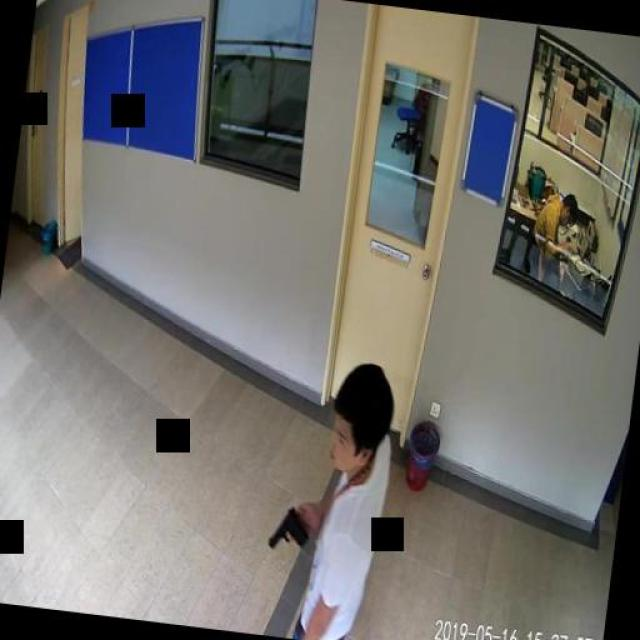gun: (268, 504, 310, 551)
